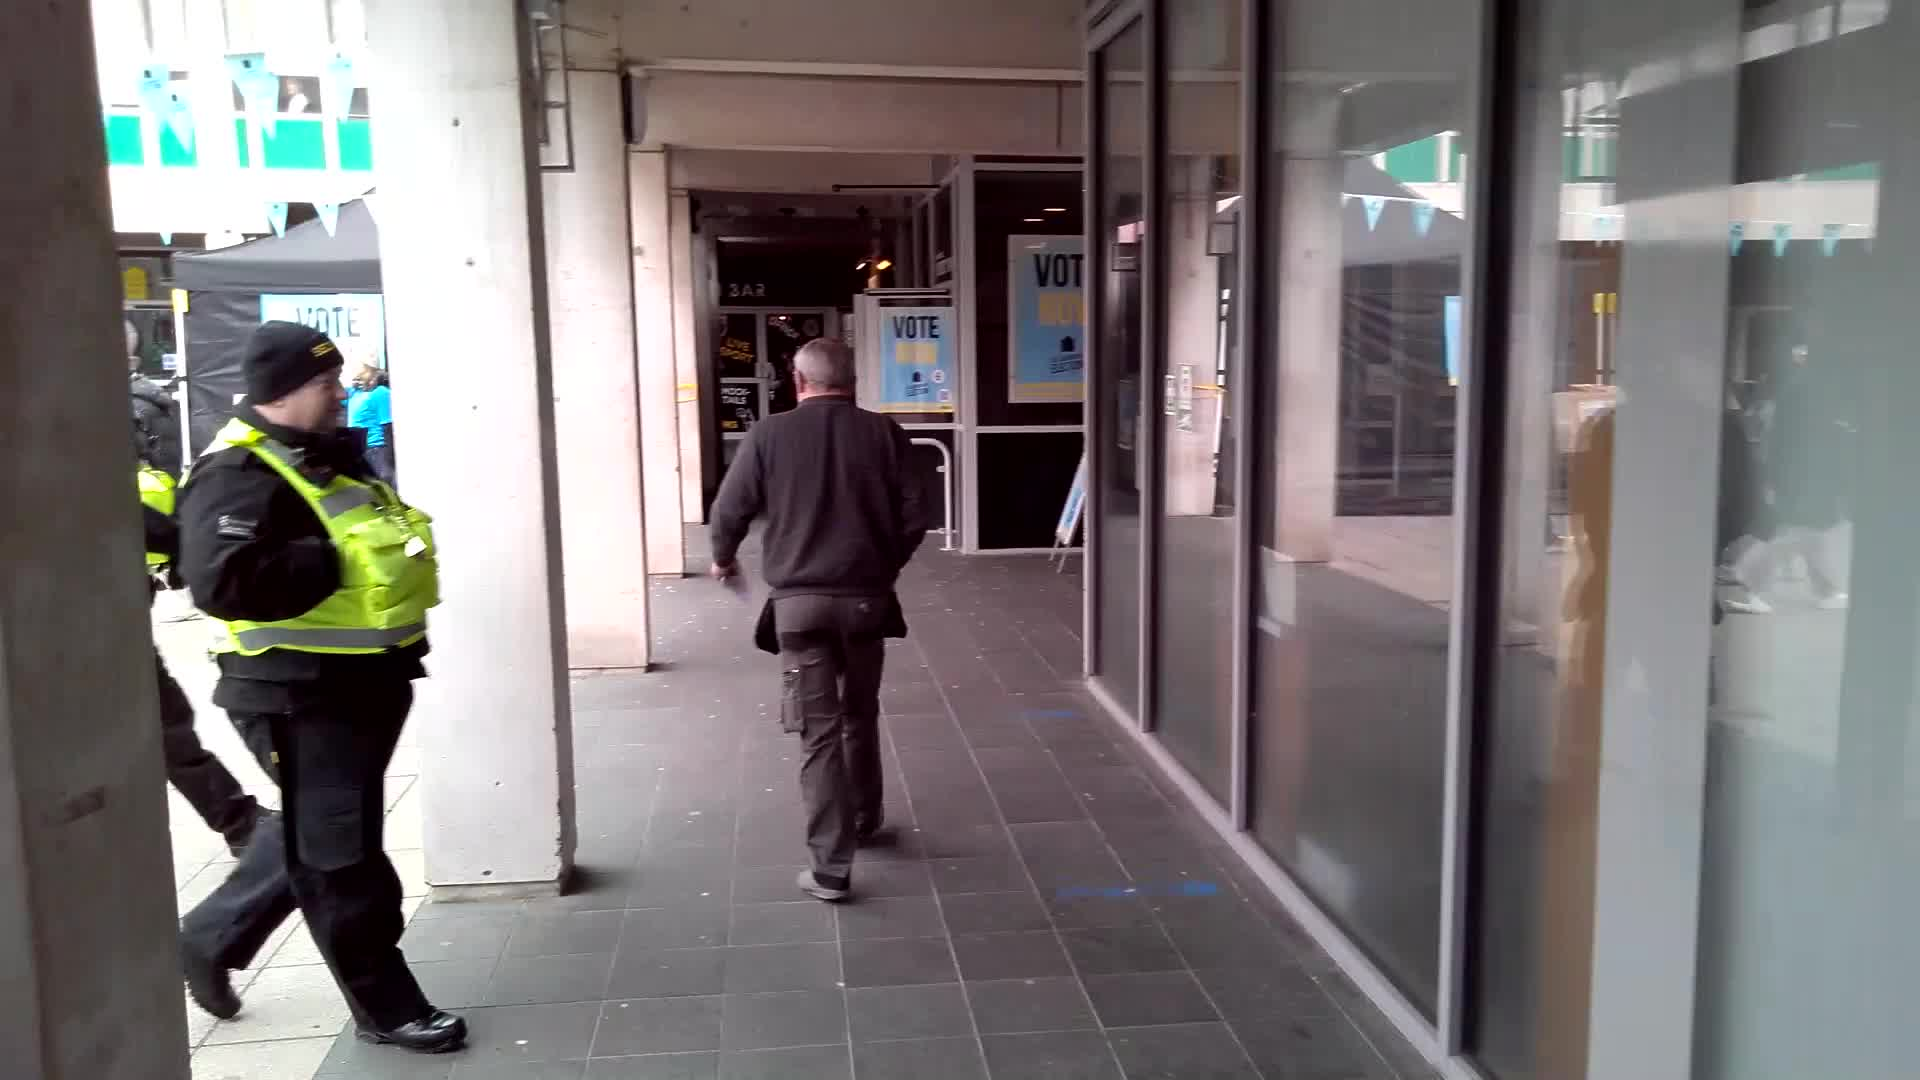Person: (210, 306, 429, 1003), (765, 333, 894, 889)
